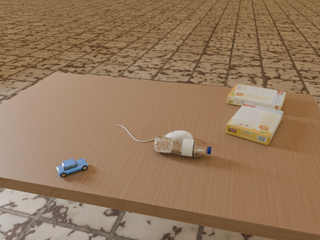bottle: (154, 136, 211, 157)
box: (226, 102, 283, 145), (227, 84, 286, 110)
mouse: (166, 131, 193, 139)
toy_car: (57, 158, 88, 177)
